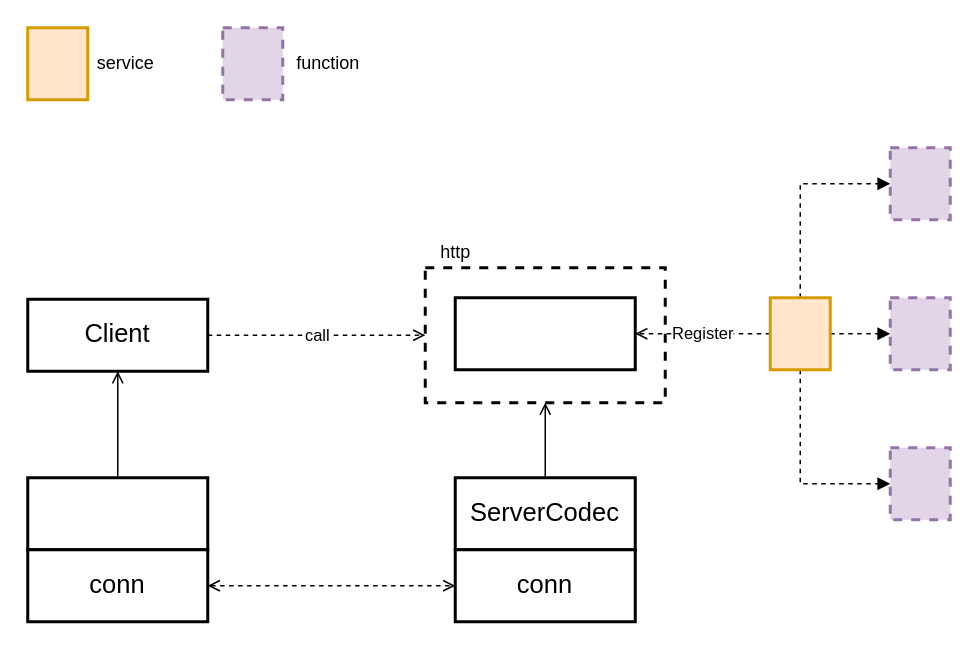
Image size: 977x648. Some labels were removed from this diagram. Each missing label, with the centre of its shape:
ClientCodec: pixel 117 513
Server: pixel 544 333
